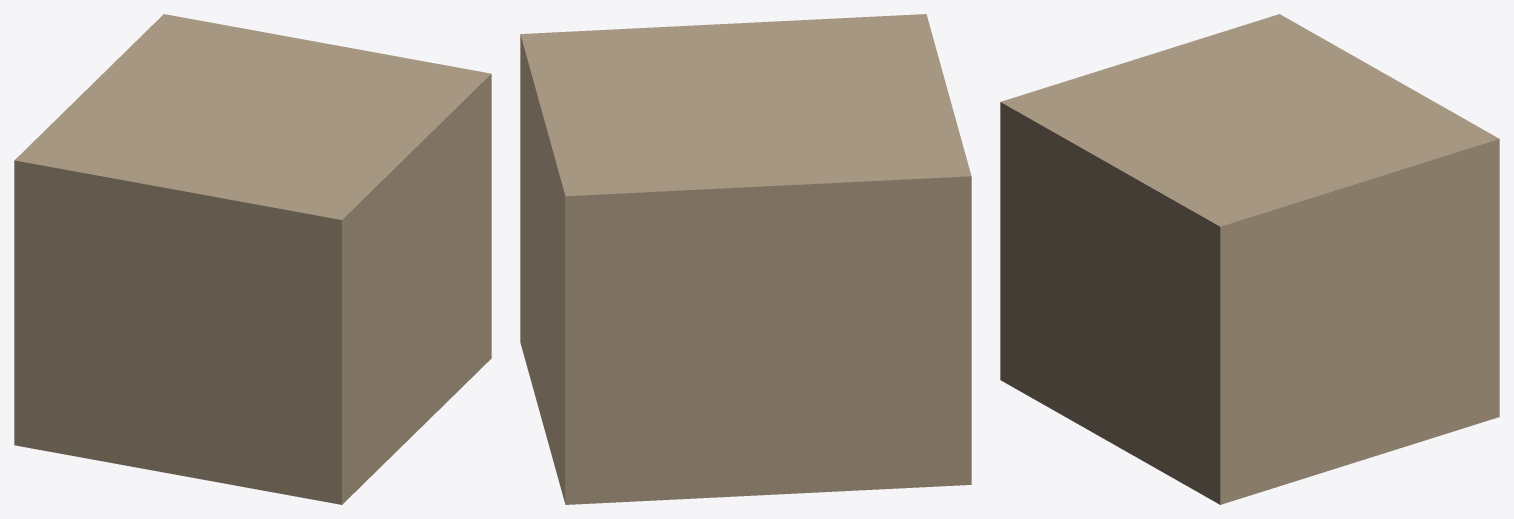
File: bld_101979773.dae
3 renders of one model, left to right at view 1: azimuth 30°, elevation 25°; view 2: azimuth 150°, elevation 25°; view 3: azimuth 270°, elevation 25°, orthographic. The views are drawn at different scales.
Parts seen in each view (by area): view 1: bld_101979773; view 2: bld_101979773; view 3: bld_101979773.
Part boxes in pixels (x1=…): bld_101979773: x1=14, y1=14, x2=491, y2=504; bld_101979773: x1=520, y1=14, x2=971, y2=504; bld_101979773: x1=1000, y1=14, x2=1499, y2=504.
Size of the model in its own units: 13.13 by 13.02 by 8.
